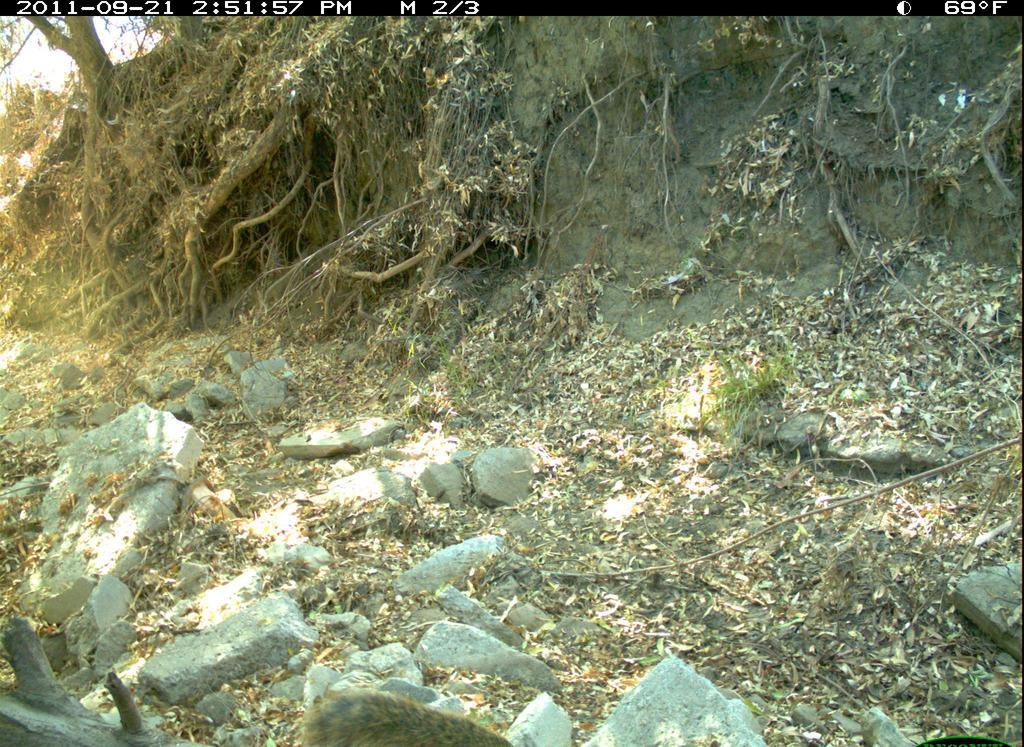squirrel: (298, 684, 524, 747)
